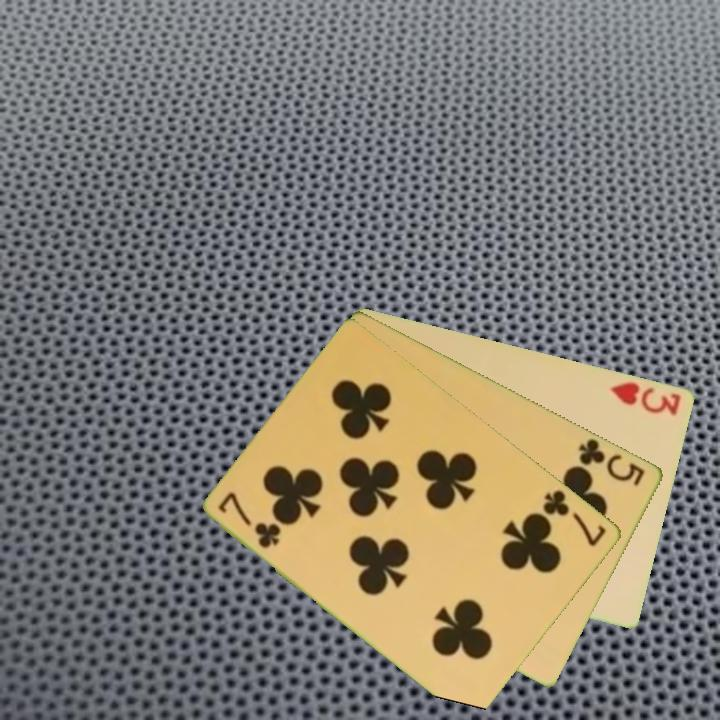3h: (606, 378, 685, 419)
5c: (575, 434, 648, 489)
7c: (214, 488, 285, 552), (539, 486, 610, 549)
